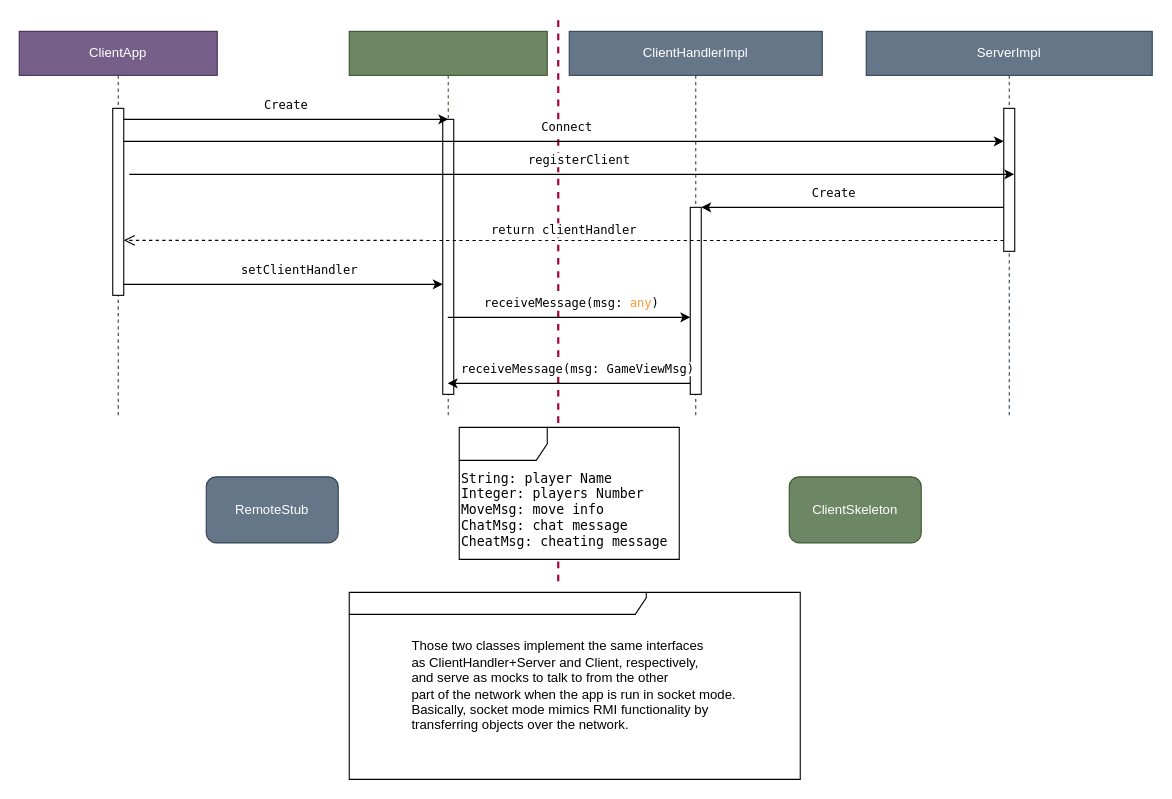
The diagram is 1172 pixels wide and 799 high, and some of its shapes have lost their labels. The box of each missing label's shape, as (x1, y1, x2, y2) in pixels:
about " any ": (458, 426, 679, 559)
about "RemoteStub" and "ClientSkeleton": (348, 591, 800, 779)
ClientImpl: (348, 30, 547, 416)
